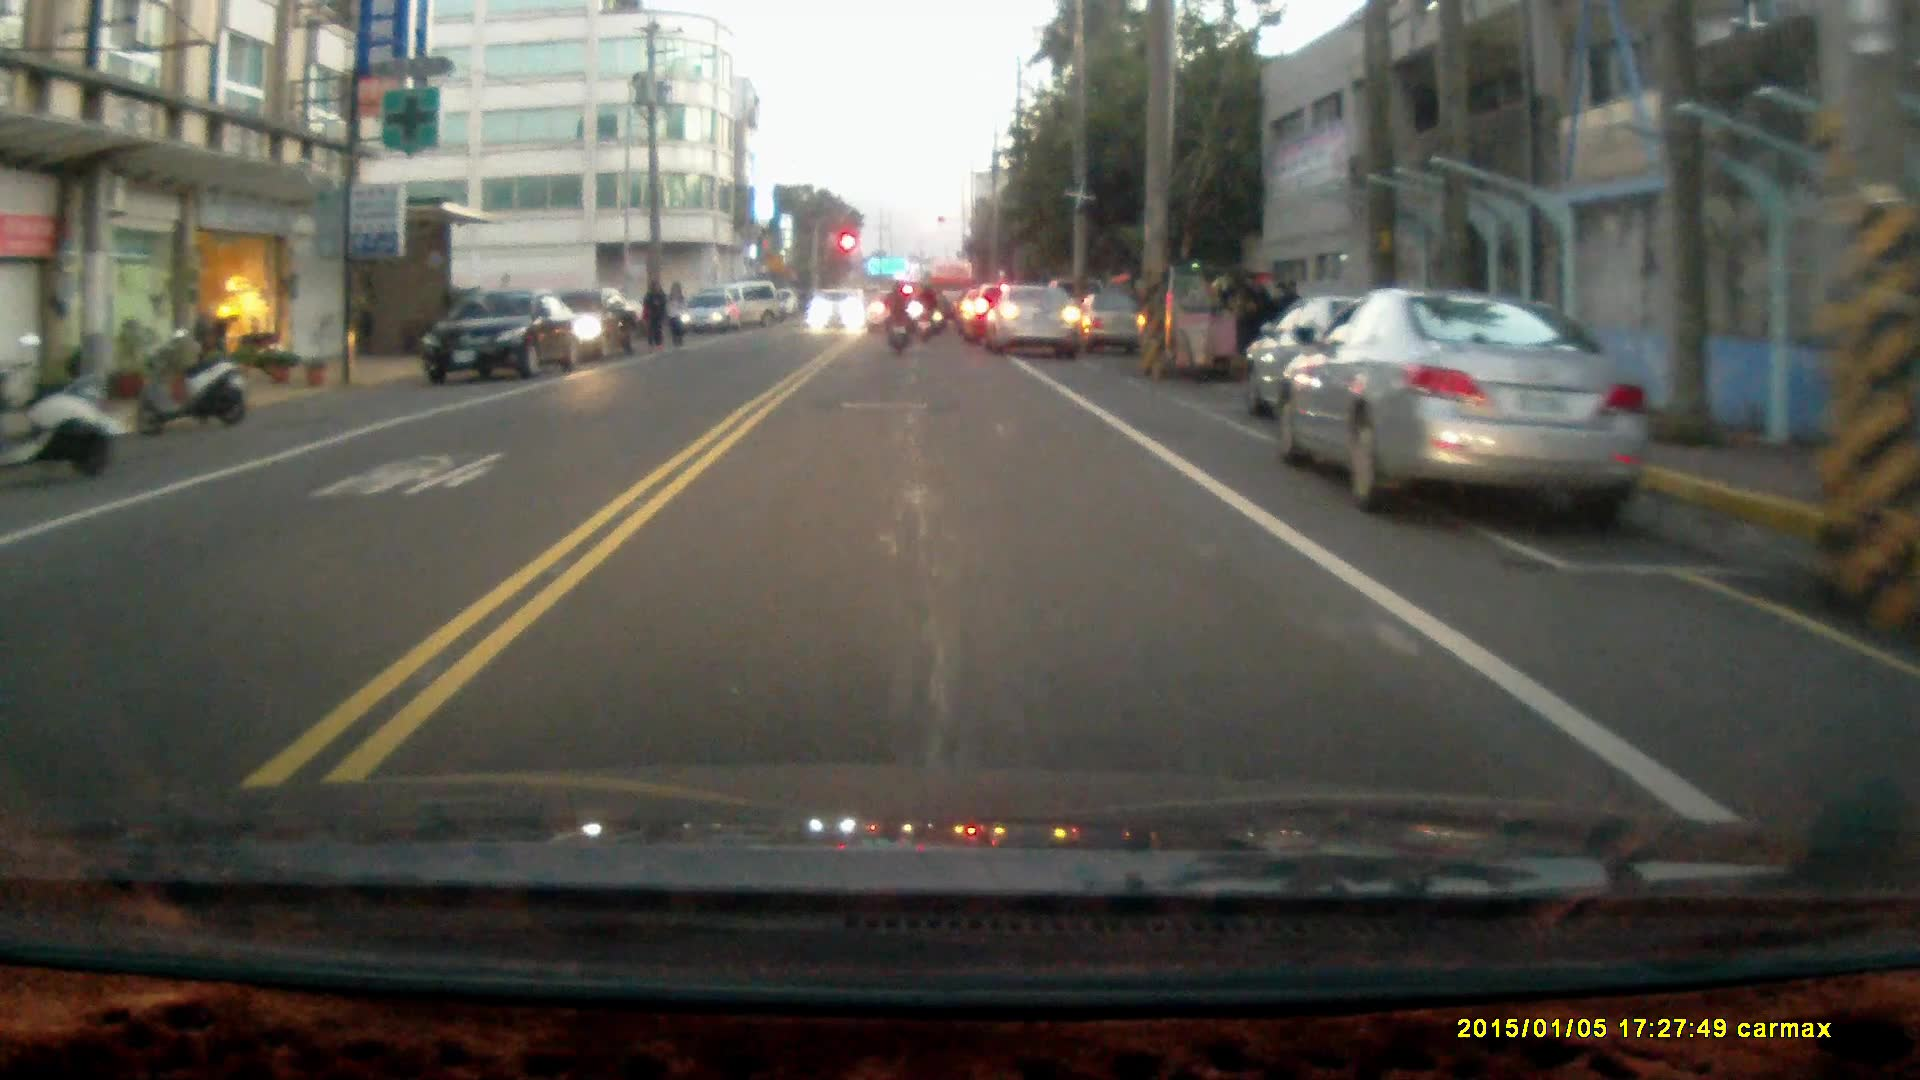pedestrian: (640, 277, 669, 356), (664, 280, 685, 355)
rider: (880, 278, 912, 356), (912, 280, 940, 345)
vehicle: (1278, 292, 1651, 530), (427, 287, 586, 388), (1123, 269, 1260, 384), (987, 285, 1087, 362), (807, 293, 864, 339)
